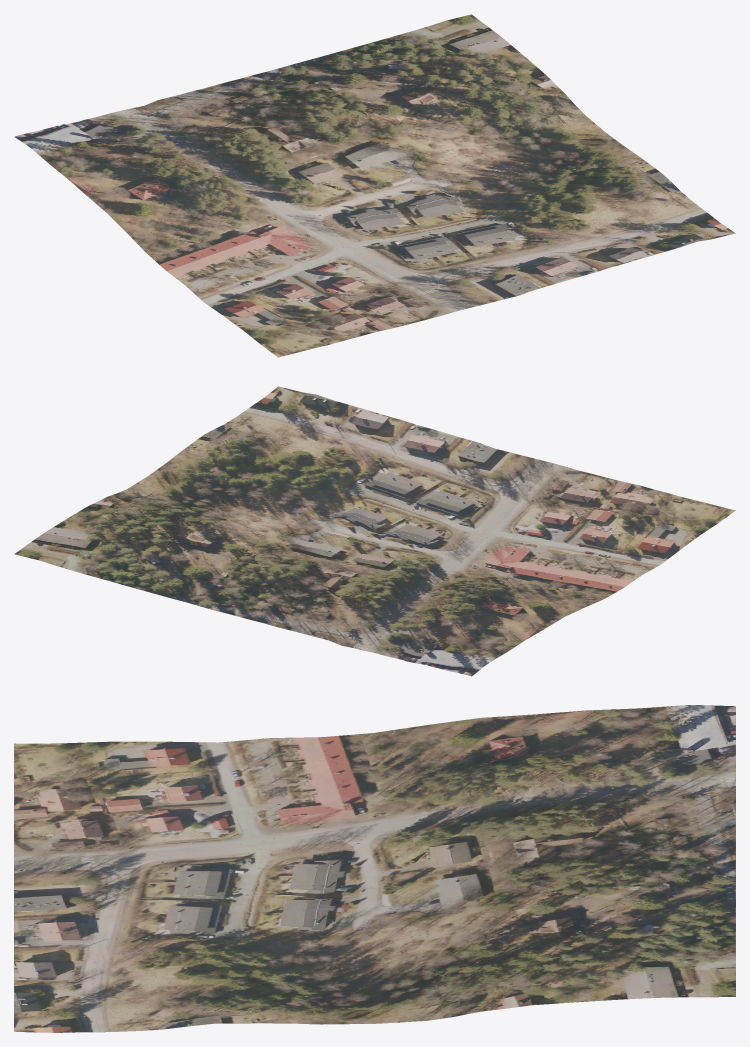
File: CM_Terrain_24491278_6821227.fbx
3 renders of one model, top to bottom at view 1: azimuth 30°, elevation 25°; view 2: azimuth 150°, elevation 25°; view 3: azimuth 270°, elevation 25°, orthographic. The views are drawn at different scales.
Visible parts, largest first — view 1: CM_Terrain_24491278_6821227_LOD0; view 2: CM_Terrain_24491278_6821227_LOD0; view 3: CM_Terrain_24491278_6821227_LOD0.
Part boxes in pixels (<box>): CM_Terrain_24491278_6821227_LOD0: <box>14,14,735,357</box>; CM_Terrain_24491278_6821227_LOD0: <box>14,386,735,676</box>; CM_Terrain_24491278_6821227_LOD0: <box>14,705,735,1032</box>.
Size of what is drawn, in the model's own units: 205 by 16.36 by 205.
